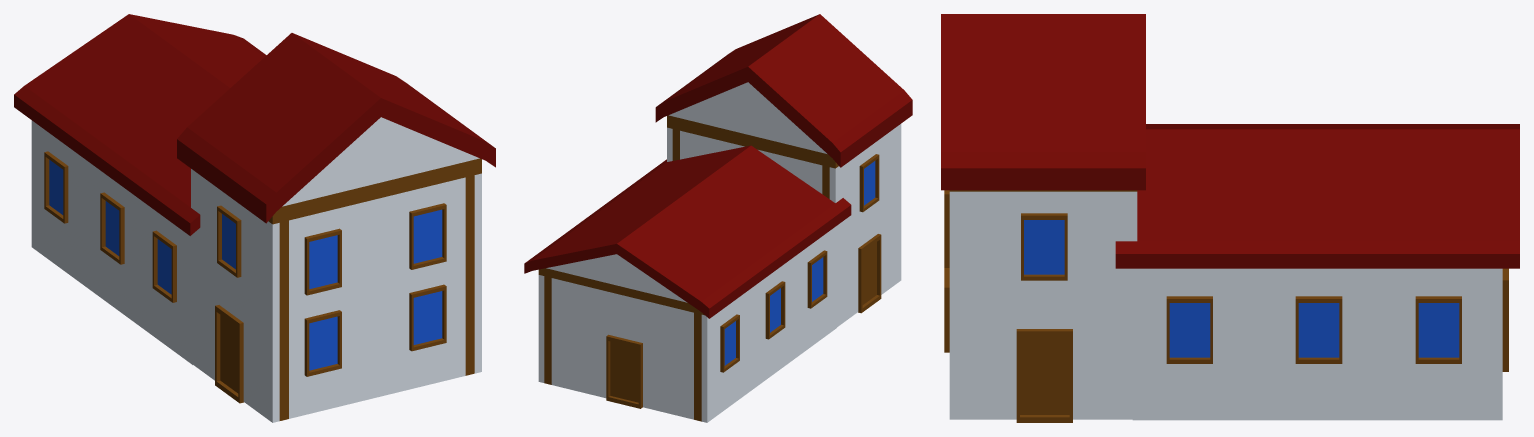
The model's file is house2.fbx.
The picture shows the model from 3 angles, left to right: view 1: azimuth 30°, elevation 25°; view 2: azimuth 150°, elevation 25°; view 3: azimuth 270°, elevation 25°; orthographic projection. The views are drawn at different scales.
Visible parts, largest first — view 1: Barn; view 2: Barn; view 3: Barn.
Boxes of the visible parts, bbox=[...] form: Barn: bbox=[14, 14, 495, 422]; Barn: bbox=[524, 14, 912, 422]; Barn: bbox=[941, 14, 1519, 422].
Size of the model in its own units: 290 by 366 by 552.
